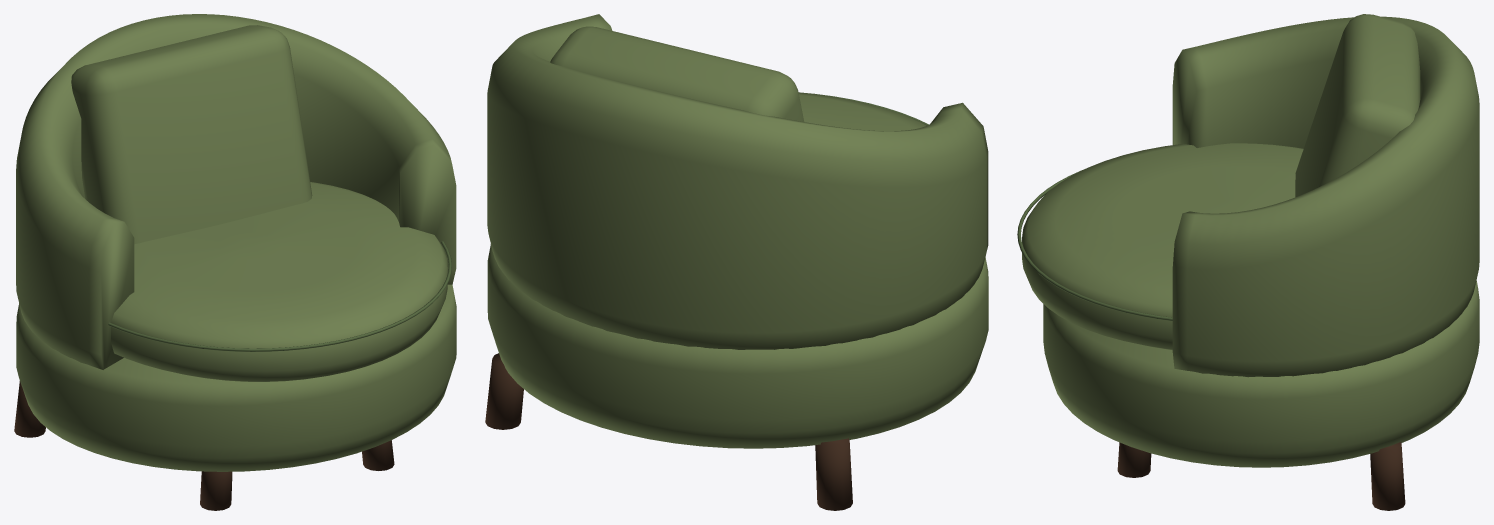
File: chair_barrel_olive.fbx
3 views of the same model, side by side, from view 1: azimuth 30°, elevation 25°; view 2: azimuth 150°, elevation 25°; view 3: azimuth 270°, elevation 25° (orthographic). The views are drawn at different scales.
Visible parts, largest first — view 1: chair_barrel_olive; view 2: chair_barrel_olive; view 3: chair_barrel_olive.
Boxes of the visible parts, box(x1,y1,x2,y2) form: chair_barrel_olive: box(14, 14, 456, 510); chair_barrel_olive: box(485, 14, 988, 510); chair_barrel_olive: box(1017, 14, 1479, 510).
Size of the model in its own units: 0.858 by 0.747 by 0.8414.
